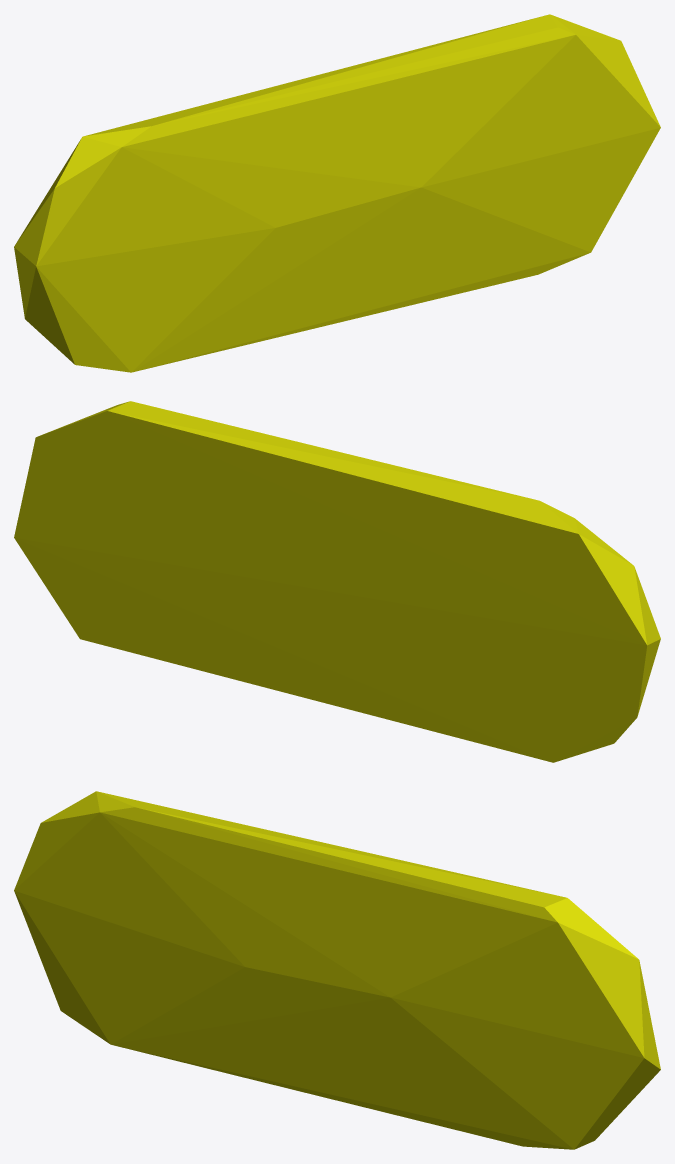
Rendered from hip-pitch_convex_piece_000.obj.
3 renders of one model, top to bottom at view 1: azimuth 30°, elevation 25°; view 2: azimuth 150°, elevation 25°; view 3: azimuth 330°, elevation 25°, orthographic.
Size of the model in its own units: 0.1884 by 0.0693 by 0.0123.
